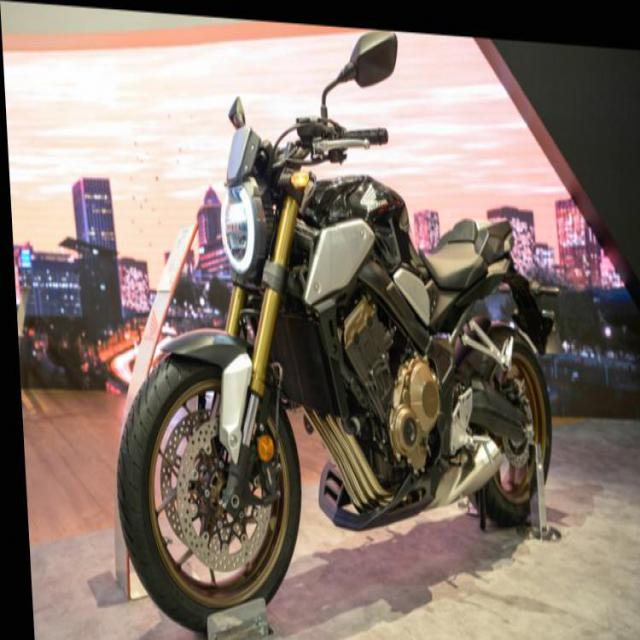CB650R: (95, 150, 560, 639)
